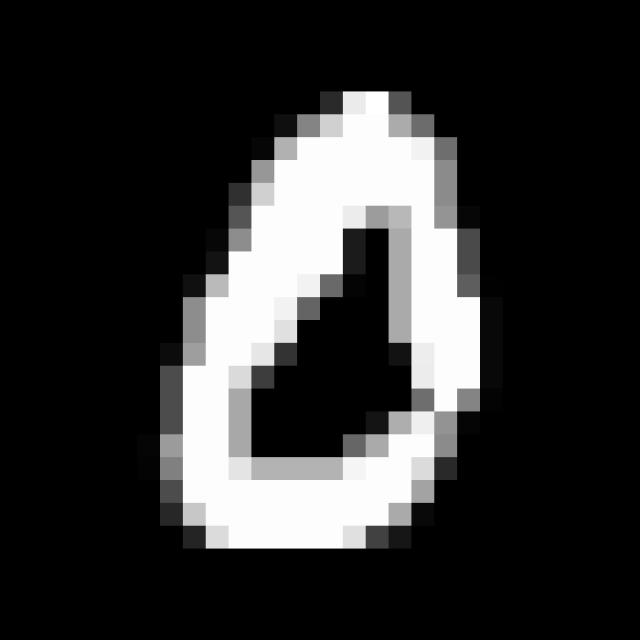zero -0-: (130, 62, 504, 576)
